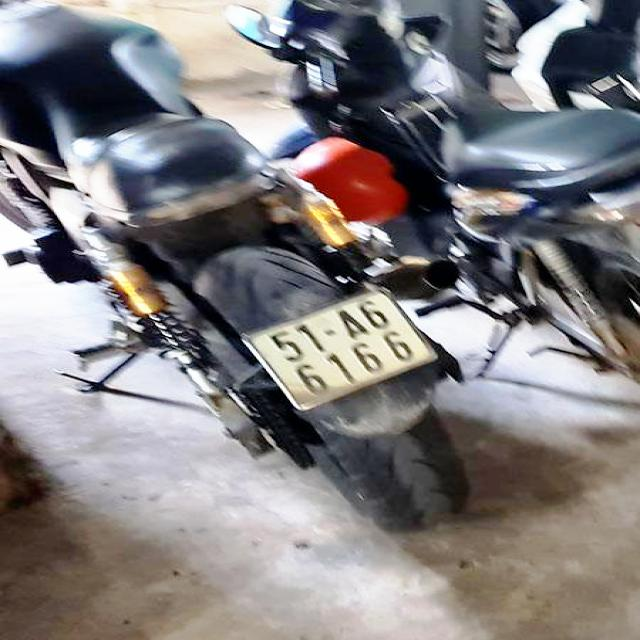license_plate: (249, 291, 432, 411)
